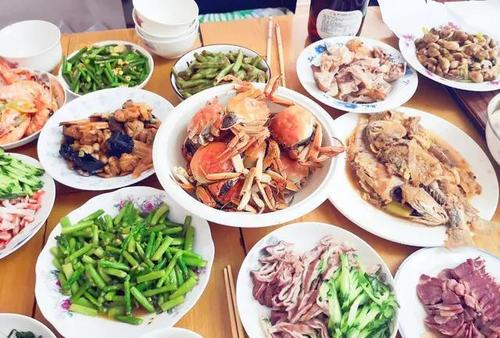food: (152, 72, 335, 226), (41, 194, 205, 330), (334, 97, 491, 237), (230, 223, 404, 334), (39, 82, 168, 188), (297, 29, 414, 110), (398, 239, 498, 330), (399, 16, 499, 88), (61, 32, 156, 95), (171, 40, 271, 99), (1, 61, 67, 145), (1, 150, 51, 206)
